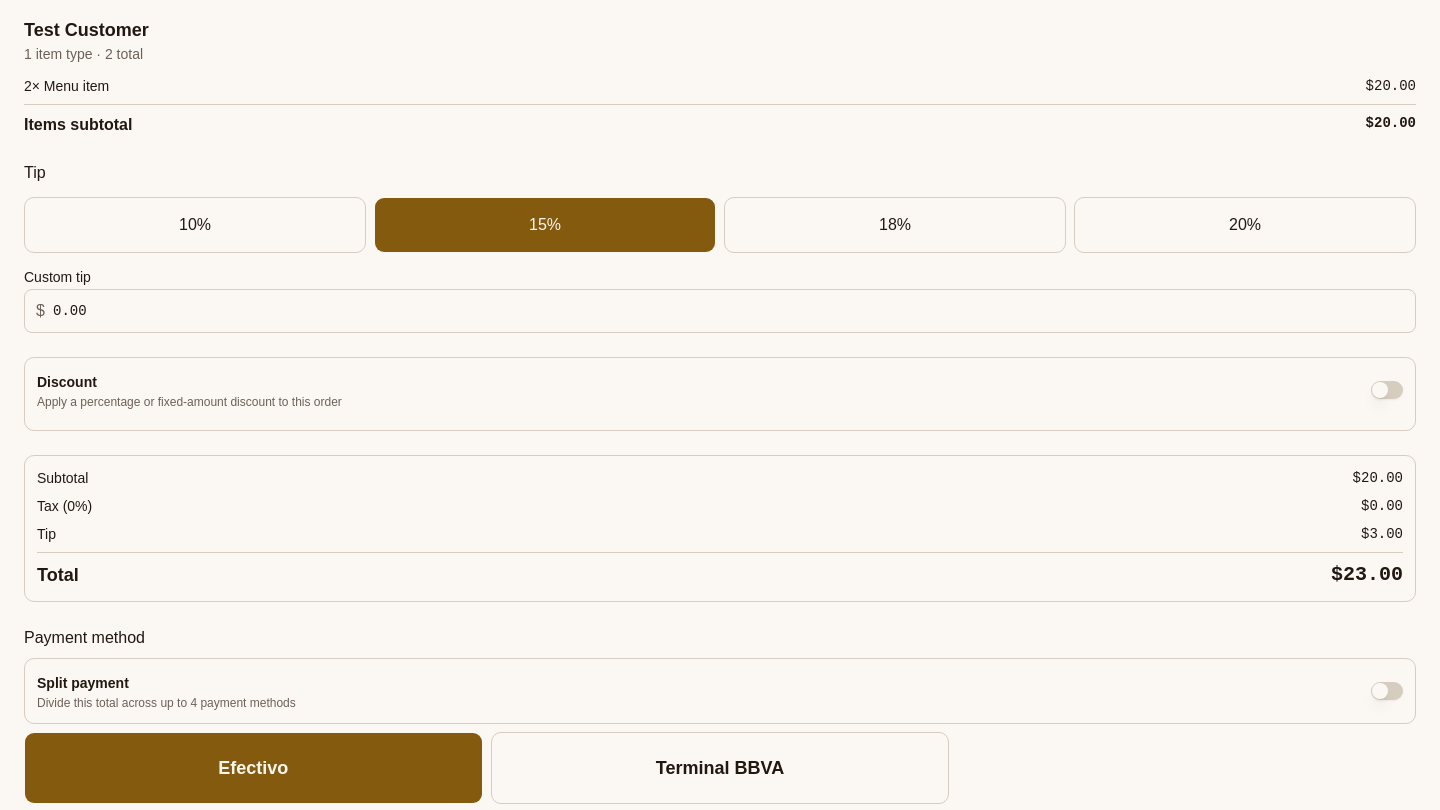
Test: PaymentForm — card charge override › renders MoneyInput for charge amount when method is card
Click the button with test id "payment-btn-card".
click(720, 768)  # box [491,732,949,804]
(page scrolled)
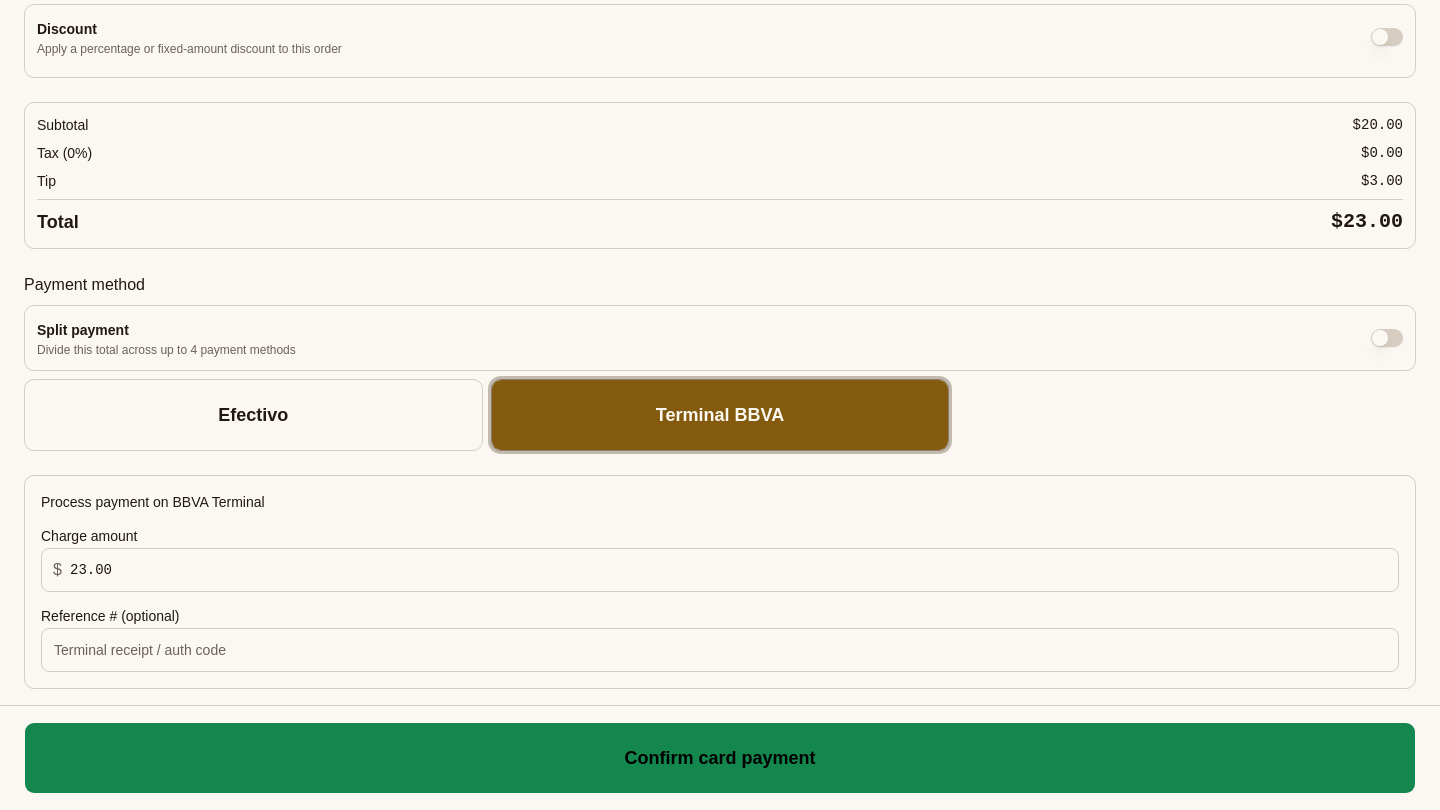
Expected: the field labelled "Charge amount" is shown, [41,548,1399,592]
